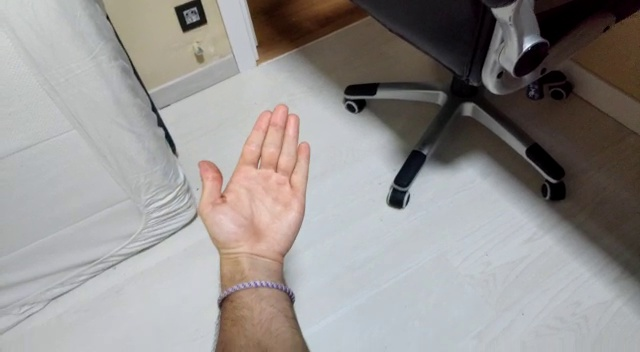Palm: (193, 102, 316, 274)
